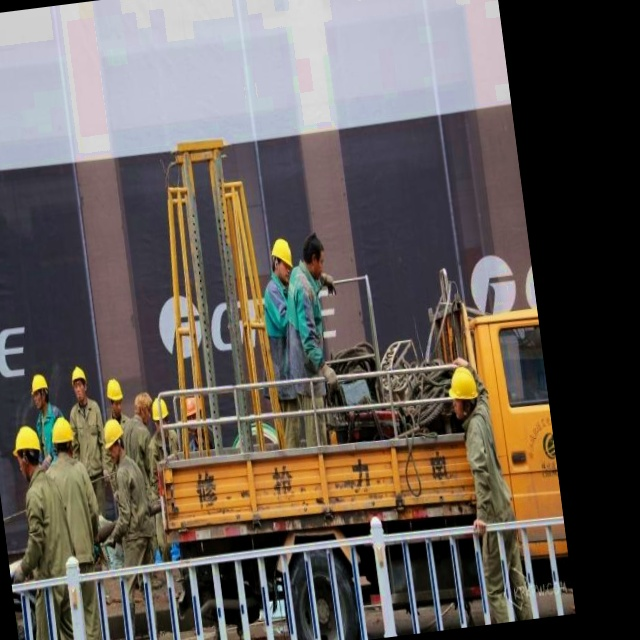Con_Casco: (269, 237, 295, 283)
Sin_Casco_Mascarrilla: (301, 231, 327, 277)
